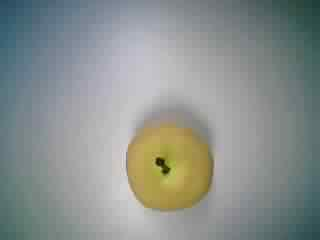pear: (112, 114, 221, 216)
